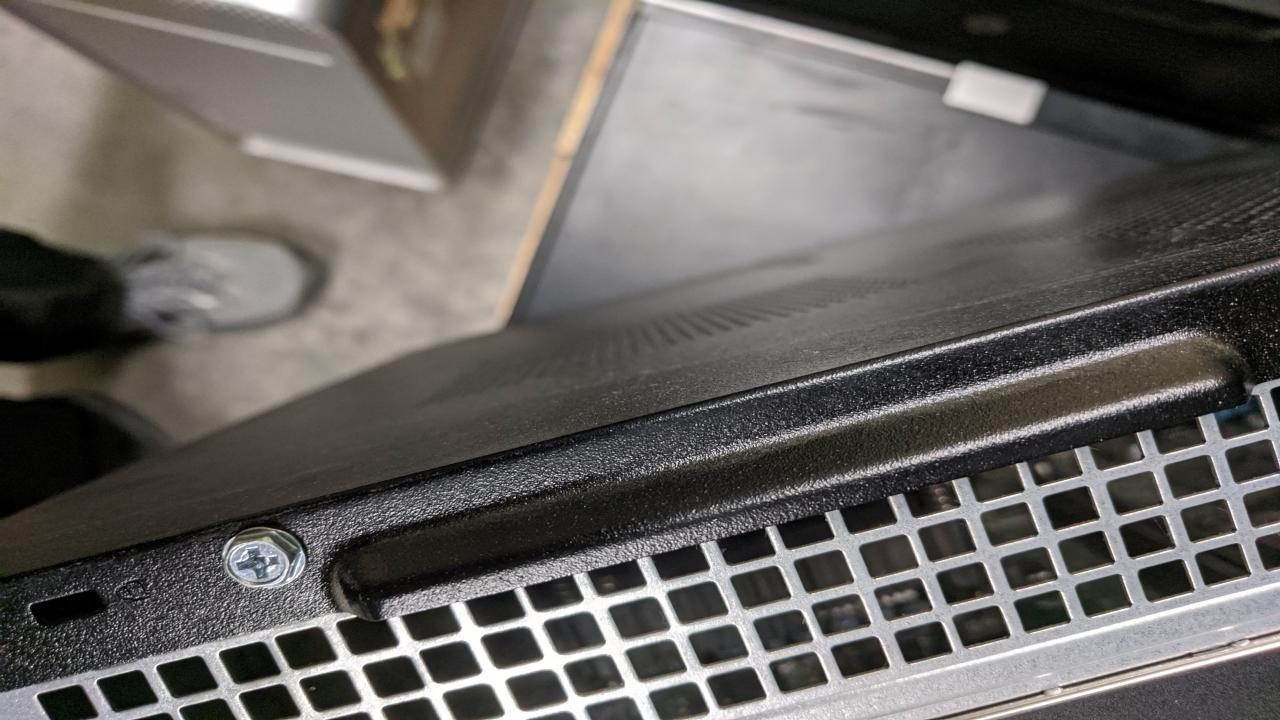CRS: (214, 529, 312, 588)
